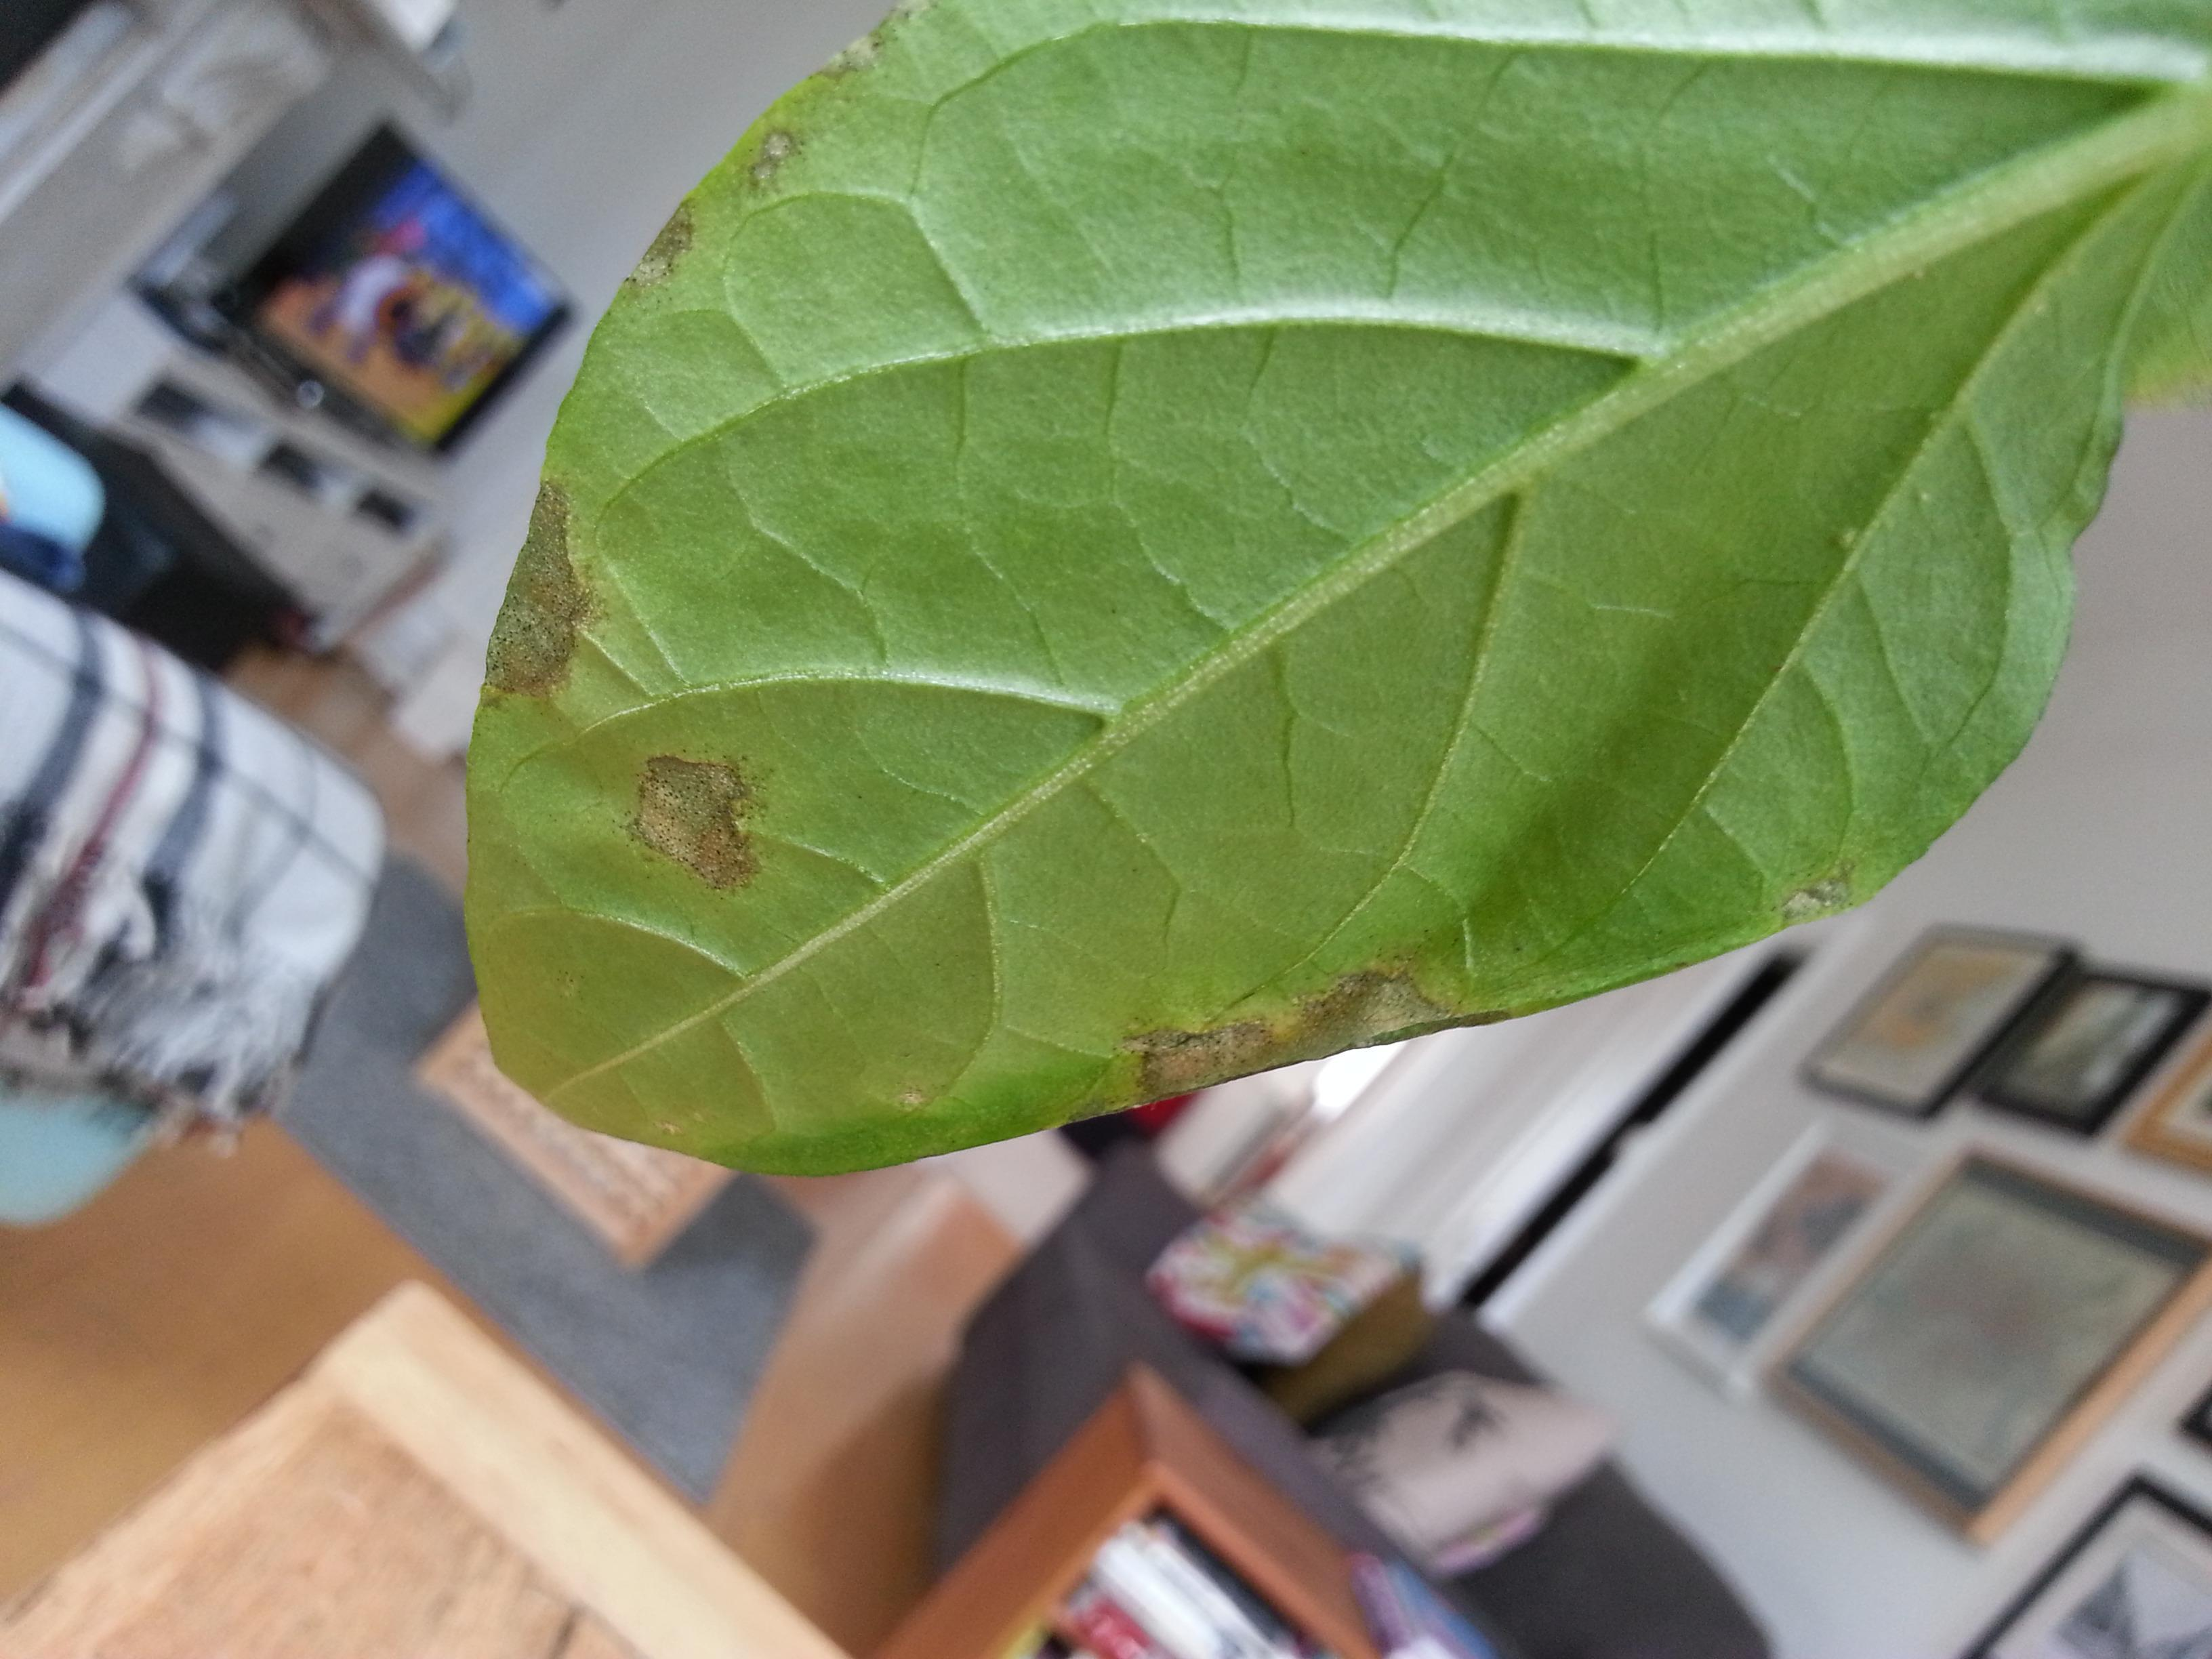Bell_pepper leaf: (455, 12, 2008, 1187)
